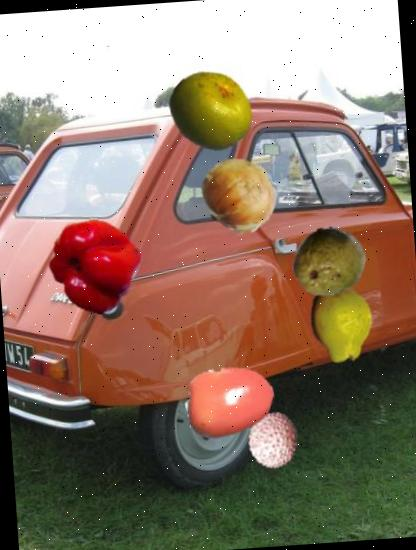Guava: (289, 221, 369, 301)
Kaki: (182, 353, 278, 449)
Lychee: (242, 409, 303, 471)
Onion: (197, 151, 282, 236)
Pepper: (44, 215, 146, 317)
Pomelo: (166, 64, 258, 156)
Quince: (299, 280, 384, 366)
